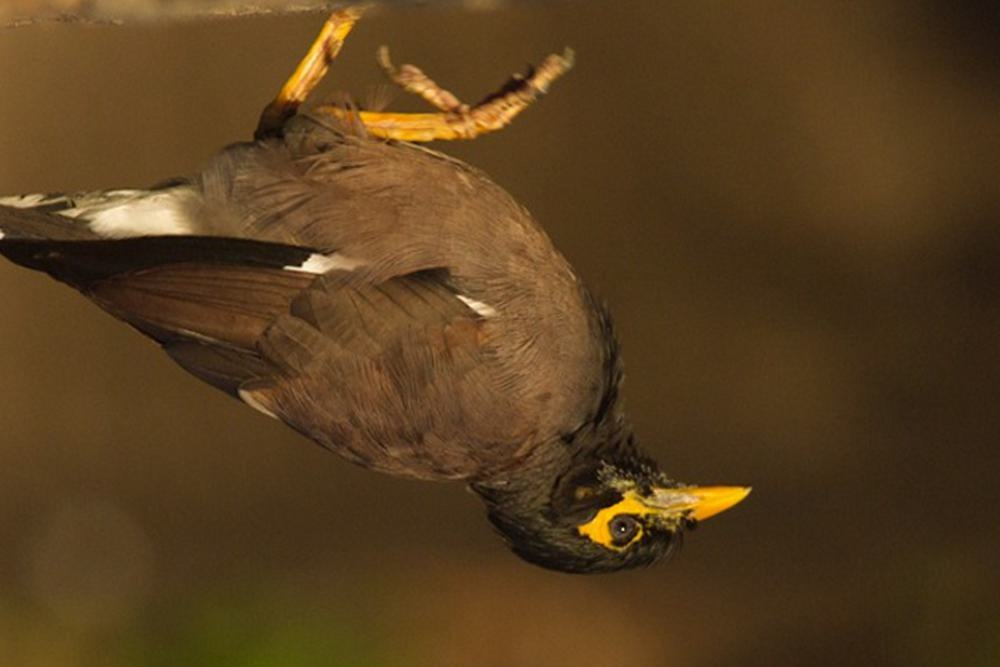myna: (101, 39, 764, 571)
